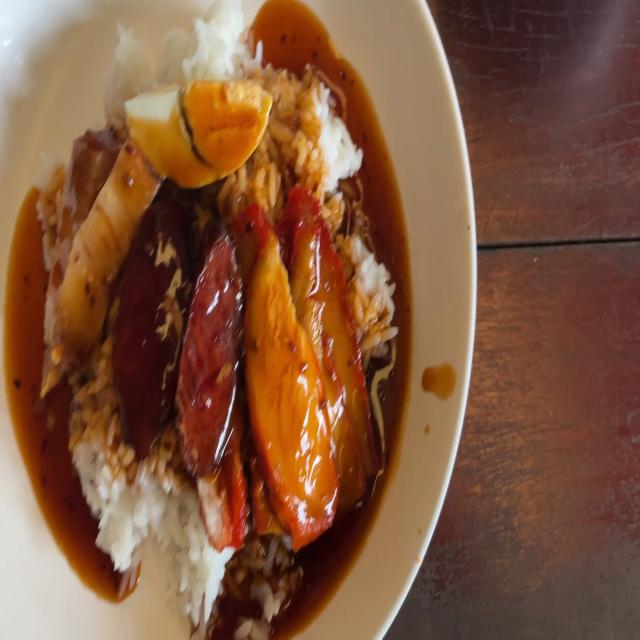red_pork_and_crispy_pork: (128, 90, 268, 176)
stir_fried_basil: (122, 204, 243, 460), (126, 212, 191, 428), (189, 253, 243, 454)
